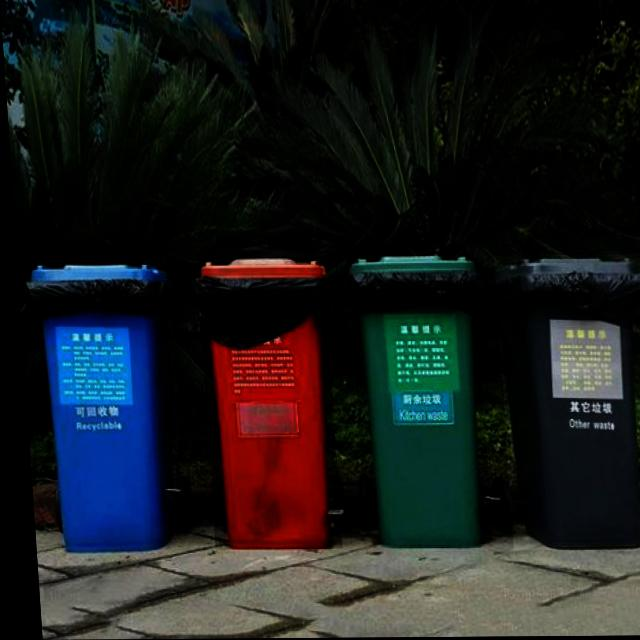garbage_bin: (491, 255, 640, 551), (24, 263, 176, 551), (193, 257, 335, 550), (344, 255, 486, 548)
